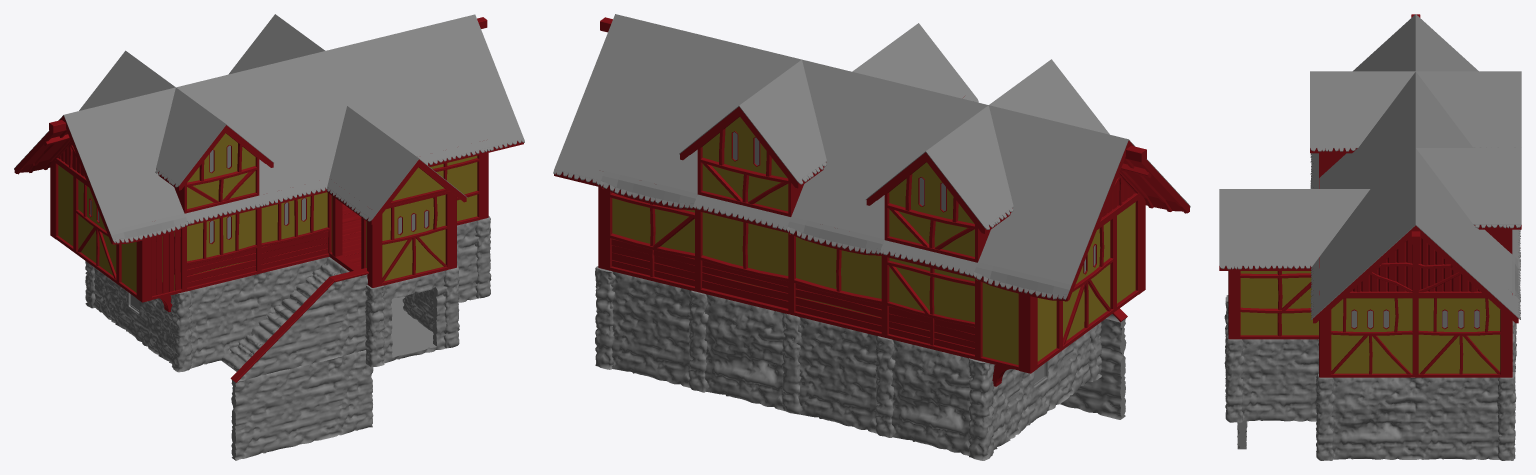
The model's file is SM_MH_01_House_10.fbx.
The picture shows the model from 3 angles, left to right: view 1: azimuth 30°, elevation 25°; view 2: azimuth 150°, elevation 25°; view 3: azimuth 270°, elevation 25°; orthographic projection. The views are drawn at different scales.
Parts seen in each view (by area): view 1: SM_MH_01_House_10_LOD0, SM_MH_01_House_10_Windows; view 2: SM_MH_01_House_10_LOD0, SM_MH_01_House_10_Windows; view 3: SM_MH_01_House_10_LOD0, SM_MH_01_House_10_Windows.
Boxes of the visible parts, x1=… form: SM_MH_01_House_10_LOD0: x1=14, y1=14, x2=524, y2=460; SM_MH_01_House_10_Windows: x1=90, y1=145, x2=428, y2=310; SM_MH_01_House_10_LOD0: x1=553, y1=14, x2=1190, y2=460; SM_MH_01_House_10_Windows: x1=733, y1=132, x2=1095, y2=383; SM_MH_01_House_10_LOD0: x1=1219, y1=14, x2=1521, y2=460; SM_MH_01_House_10_Windows: x1=1351, y1=310, x2=1479, y2=328.
Size of what is drawn, in the model's own units: 1740 by 1170 by 1000.
